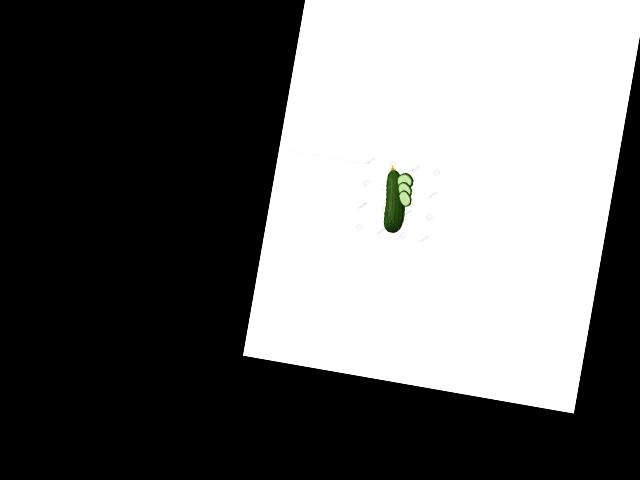cucumber: (378, 165, 412, 235)
